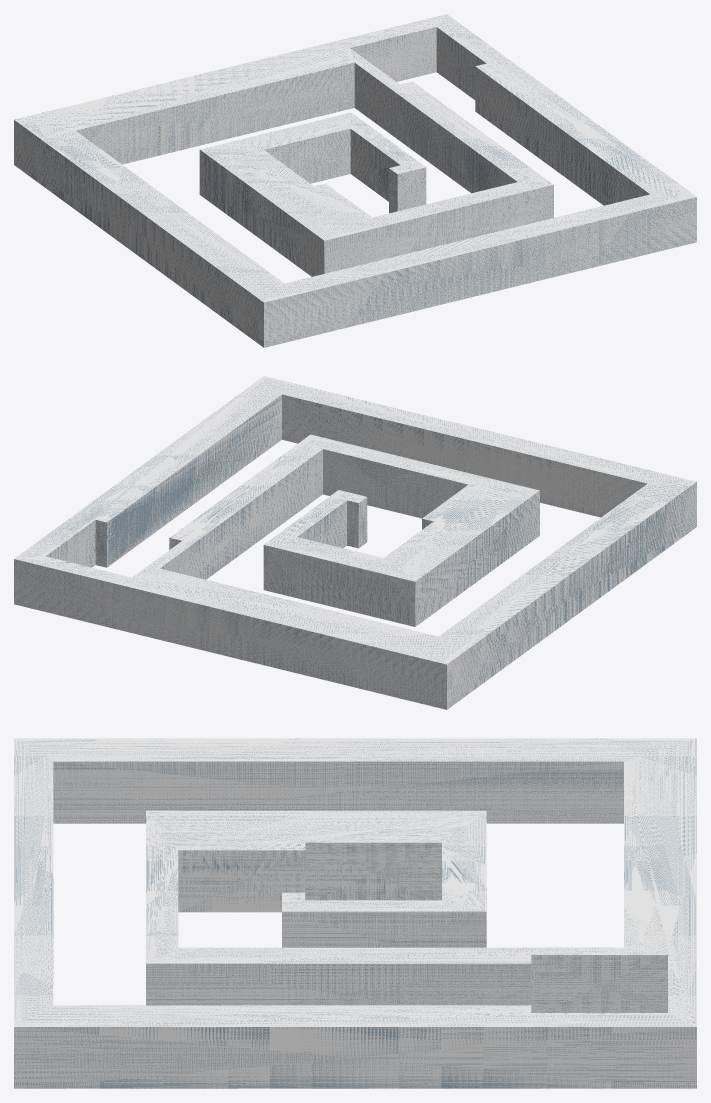
3 views of the same model, one above another, from view 1: azimuth 30°, elevation 25°; view 2: azimuth 150°, elevation 25°; view 3: azimuth 270°, elevation 25° (orthographic). The views are drawn at different scales.
Parts seen in each view (by area): view 1: Model; view 2: Model; view 3: Model.
Boxes of the visible parts, <box> form: Model: <box>14,14,696,347</box>; Model: <box>14,376,696,709</box>; Model: <box>14,738,696,1088</box>.
Bounding box in the file's own units: 0.1 × 0.01 × 0.1.
